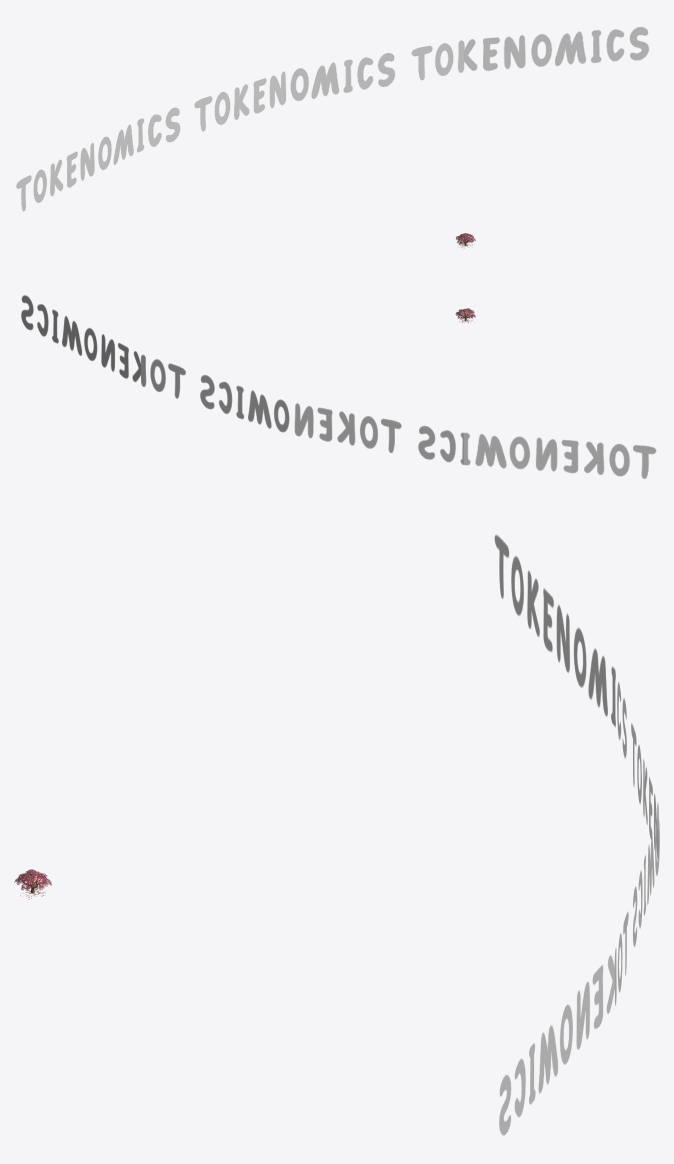
File: section_3.glb
The picture shows the model from 3 angles, top to bottom: view 1: azimuth 30°, elevation 25°; view 2: azimuth 150°, elevation 25°; view 3: azimuth 270°, elevation 25°; orthographic projection. The views are drawn at different scales.
Parts seen in each view (by area): view 1: BackText; view 2: BackText; view 3: BackText.
Part boxes in pixels (x1,y1,x2,y2): BackText: (16,27,648,211); BackText: (21,295,655,478); BackText: (494,534,659,1135).
Bounding box in the file's own units: 152 × 13.07 × 73.88.
6 materials, 6 textured.
